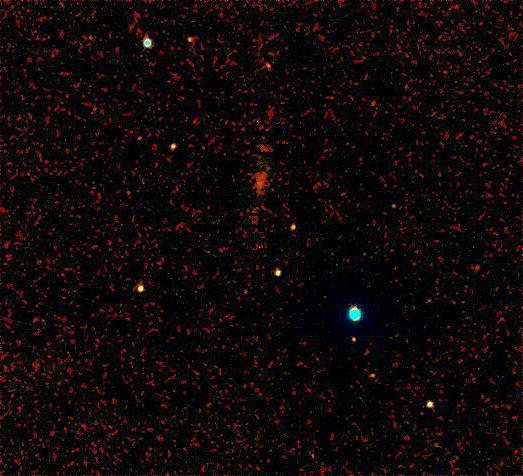star: (338, 324, 368, 354)
